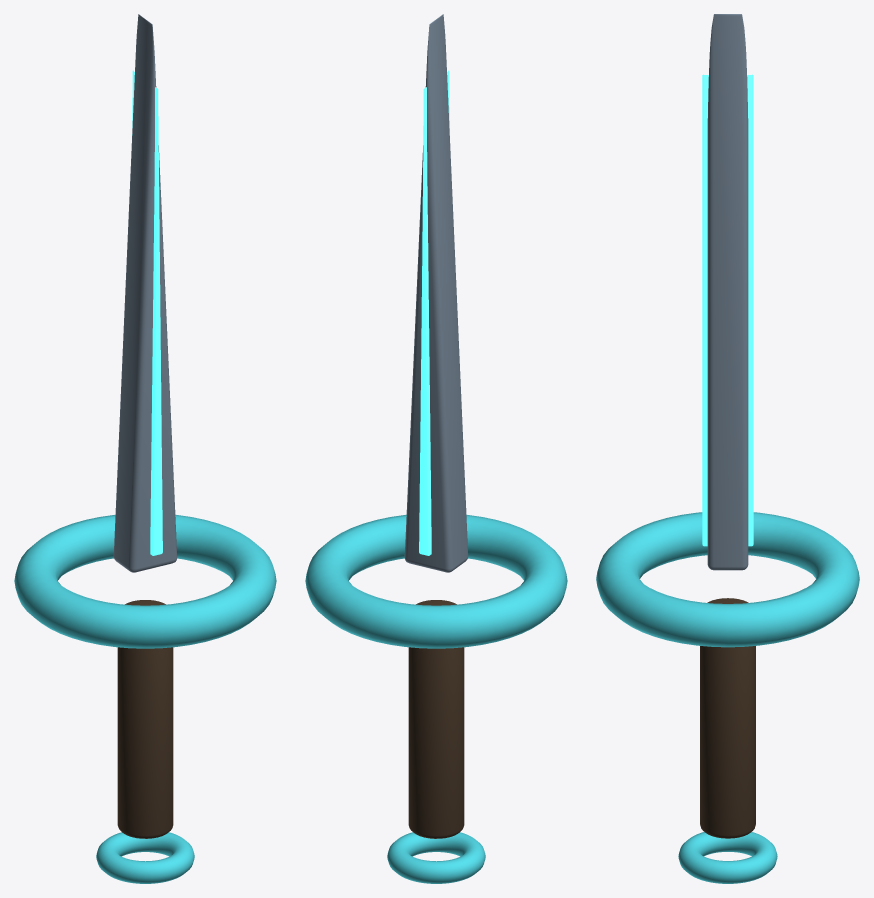
The model's file is dagger_v3.glb.
The picture shows the model from 3 angles, left to right: view 1: azimuth 30°, elevation 25°; view 2: azimuth 150°, elevation 25°; view 3: azimuth 270°, elevation 25°; orthographic projection.
Parts seen in each view (by area): view 1: STILETTO_GUARD_ACCENT, STILETTO_NEEDLE_PRIMARY, GRIP_SECONDARY, STILETTO_RIDGE_EMISSIVE, POMMEL_ACCENT; view 2: STILETTO_GUARD_ACCENT, STILETTO_NEEDLE_PRIMARY, GRIP_SECONDARY, STILETTO_RIDGE_EMISSIVE, POMMEL_ACCENT; view 3: STILETTO_NEEDLE_PRIMARY, STILETTO_GUARD_ACCENT, GRIP_SECONDARY, STILETTO_RIDGE_EMISSIVE, POMMEL_ACCENT.
Boxes of the visible parts, <box> form: STILETTO_GUARD_ACCENT: <box>14,514,276,648</box>; STILETTO_NEEDLE_PRIMARY: <box>113,14,177,572</box>; GRIP_SECONDARY: <box>117,600,173,838</box>; STILETTO_RIDGE_EMISSIVE: <box>132,70,162,555</box>; POMMEL_ACCENT: <box>96,832,194,883</box>; STILETTO_GUARD_ACCENT: <box>305,514,567,648</box>; STILETTO_NEEDLE_PRIMARY: <box>404,14,468,572</box>; GRIP_SECONDARY: <box>408,600,464,838</box>; STILETTO_RIDGE_EMISSIVE: <box>419,70,449,555</box>; POMMEL_ACCENT: <box>387,832,485,883</box>; STILETTO_NEEDLE_PRIMARY: <box>707,14,748,570</box>; STILETTO_GUARD_ACCENT: <box>596,512,859,647</box>; GRIP_SECONDARY: <box>700,598,755,838</box>; STILETTO_RIDGE_EMISSIVE: <box>702,74,753,546</box>; POMMEL_ACCENT: <box>678,832,777,883</box>.
Bounding box in the file's own units: 1.03 × 3.68 × 1.03.
